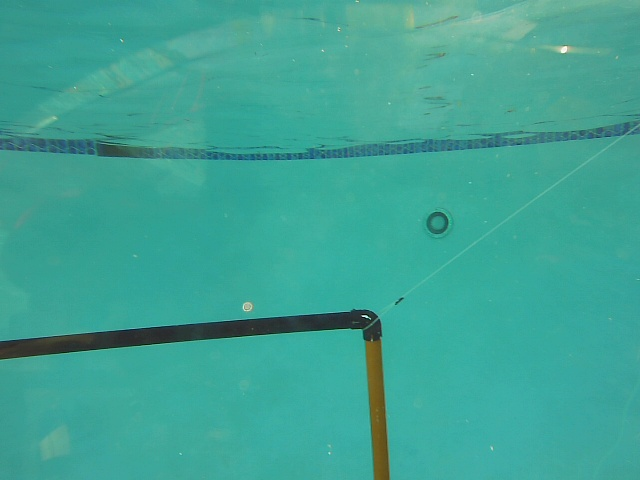Gate: (364, 337, 394, 480)
